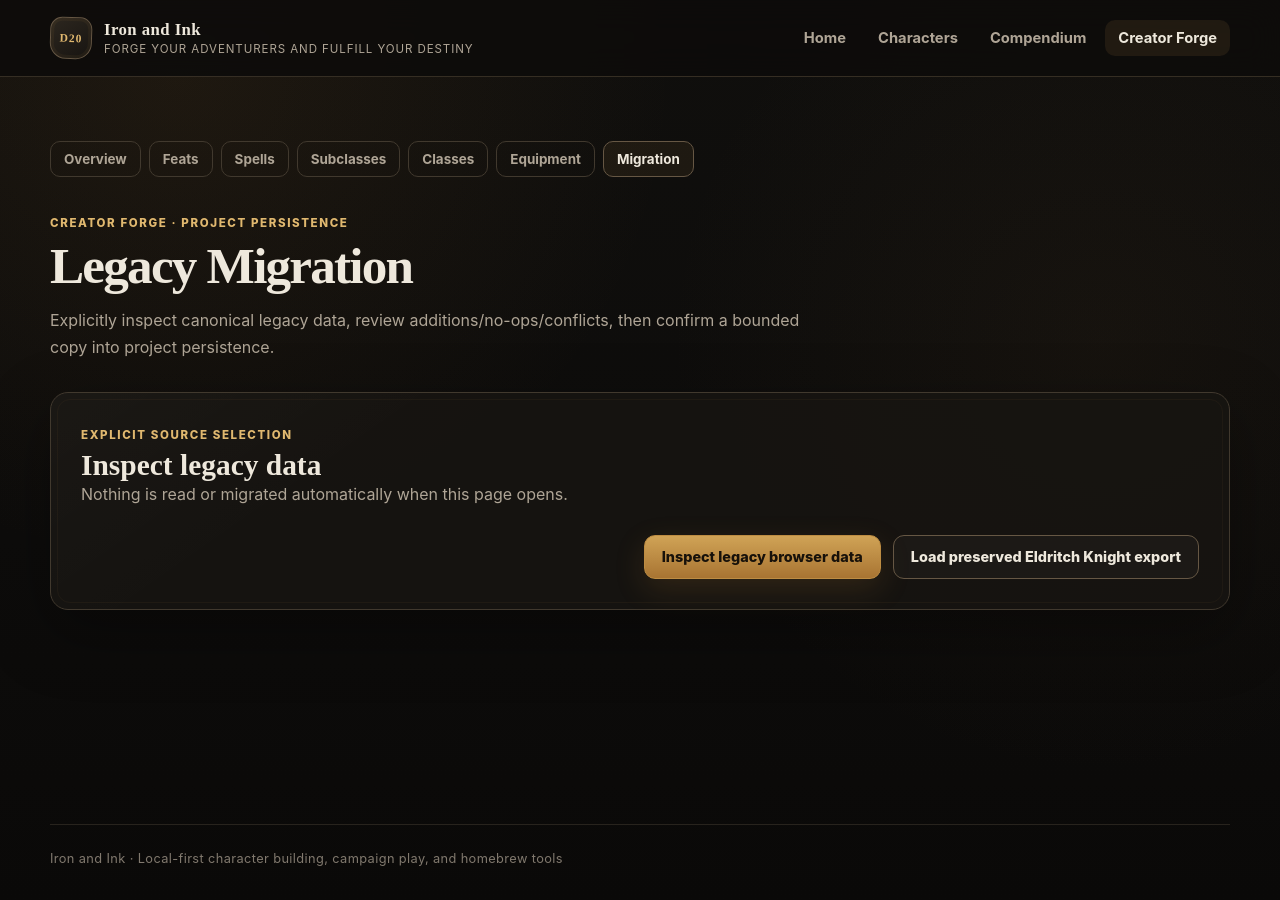
Test: Project Persistence Phase G application migration › A41. migration UI reports identical/no-op items
The image size is (1280, 900).
Click the button "Inspect legacy browser data" at point(762, 557), box [644,535,881,579]
(page scrolled)
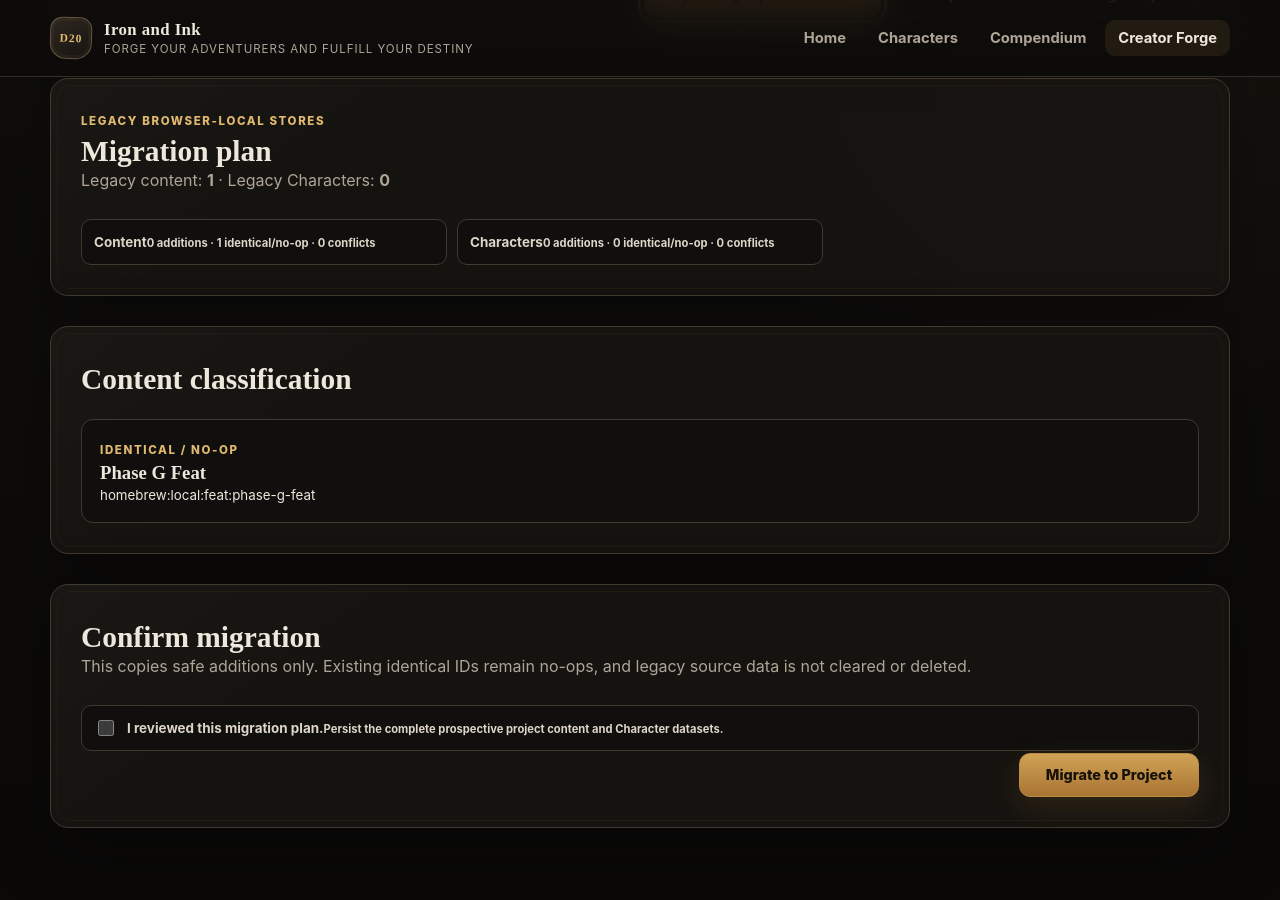
Now the text "0 additions · 1 identical/no-op · 0 conflicts" is shown, box [147,236,376,250]
Now the text "IDENTICAL / NO-OP" is shown, box [100,443,239,457]
